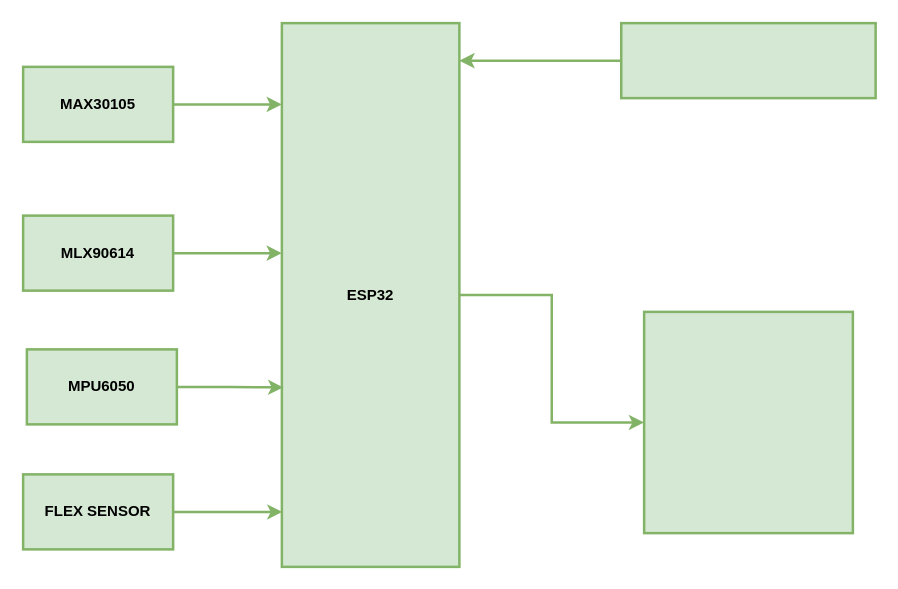
The diagram is 898 pixels wide and 589 high, and some of its shapes have lost their labels. The centre of each missing label's shape, as x and y in pixels:
"BLYNK WEB-DASHBOARD" goes at point (747, 60).
"OUTPUT ALERT NOTIFICATIONS DISPLAY READINGS RED LED ON GREEN LED ON" goes at point (748, 422).
